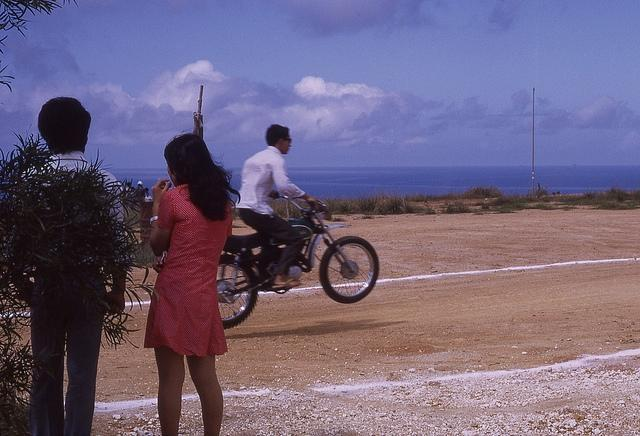motorcycle: (216, 194, 380, 331)
